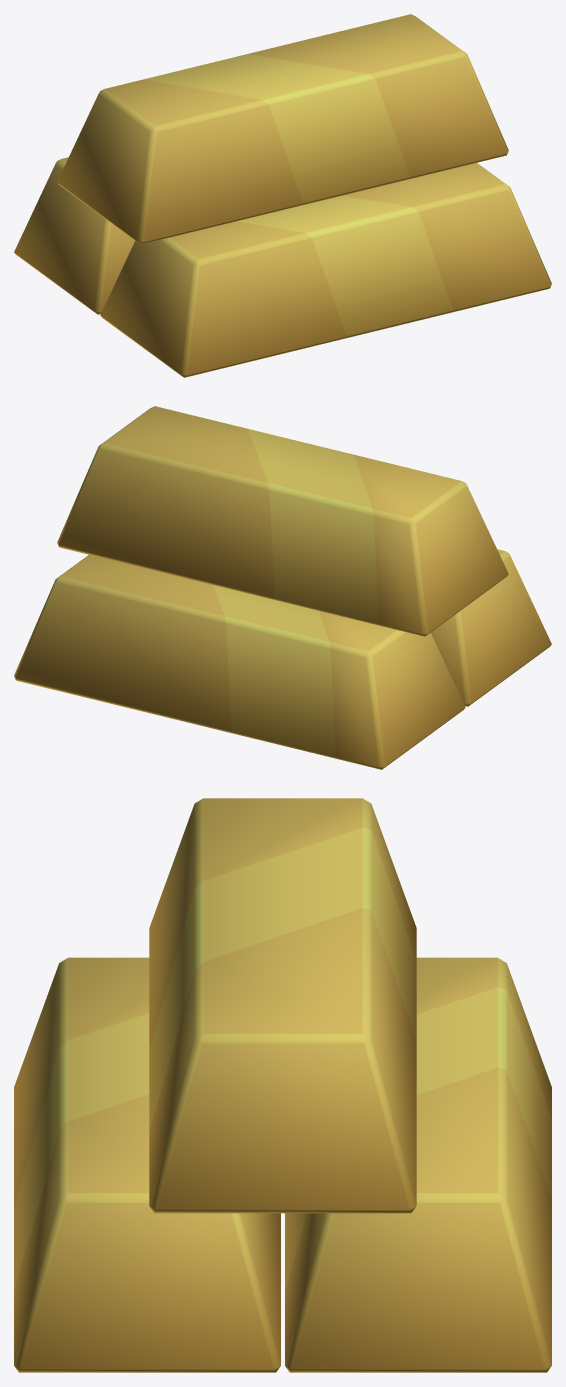
File: Ingot_Gold_2.glb
The picture shows the model from 3 angles, top to bottom: view 1: azimuth 30°, elevation 25°; view 2: azimuth 150°, elevation 25°; view 3: azimuth 270°, elevation 25°; orthographic projection. The views are drawn at different scales.
Visible parts, largest first — view 1: Ingot_Gold_2; view 2: Ingot_Gold_2; view 3: Ingot_Gold_2.
Boxes of the visible parts, bbox=[...] form: Ingot_Gold_2: bbox=[14, 14, 551, 377]; Ingot_Gold_2: bbox=[14, 406, 551, 769]; Ingot_Gold_2: bbox=[14, 798, 551, 1372].
Bounding box in the file's own units: 0.994 × 0.516 × 0.7944.
